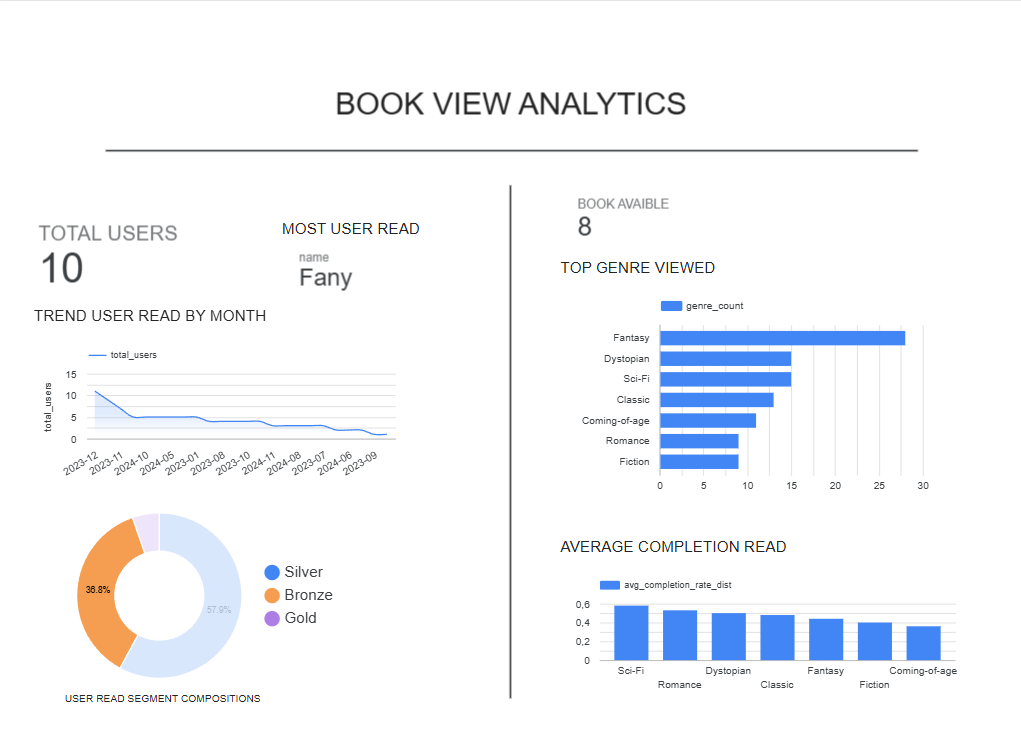

Layout of this report page (visuals, bound fields, positions):
{"tool":"powerbi","page":{"name":"Page 1","canvas":[1280,720],"ordinal":0},"visuals":[{"type":"clusteredBarChart","title":"Reading completion rates","fields":{"Category":["Query1.title"],"Y":["Query1.Completion Rate"]},"box":[403.3,411.7,500,308.3],"z":0},{"type":"textbox","box":[0,0,1280,65],"z":1000},{"type":"pieChart","title":"Reading progress by user segment","fields":{"Category":["Query2.segment"],"Y":["Sum(Query2.completion_rate)"]},"box":[903.3,411.7,376.7,308.3],"z":2000},{"type":"tableEx","title":"TOP-RATED BOOKS","fields":{"Values":["Query3.title","Query3.rating"]},"box":[0,411.7,403.3,308.3],"z":3000},{"type":"lineChart","title":"User activity over time","fields":{"Category":["Query1.date.Variation.Date Hierarchy.Month"],"Y":["Count(Query1.user_id)"]},"box":[656.7,113.3,623.3,298.3],"z":5000},{"type":"slicer","fields":{"Values":["Query1.genre"]},"box":[0,53.3,158.3,235],"z":6000},{"type":"slicer","fields":{"Values":["Query1.action"]},"box":[0,288.3,158.3,123.3],"z":7000},{"type":"barChart","title":"Book distribution by genre","fields":{"Category":["Query1.genre"],"Y":["Query1.Reader"]},"box":[158.3,53.3,498.3,358.3],"z":10500},{"type":"slicer","title":"Filter by Date","fields":{"Values":["Query1.date"]},"box":[656.7,5,623.3,108.3],"z":13000}]}

Visuals, with their boxes on the page's 1280x720 design canvas (x1, y1, x2, y2). These are canvas units, not pixel positions in the 1021x738 screenshot, which may show the page scaled, cropped or inside an application window:
"Reading completion rates" clusteredBarChart: box=[403, 412, 903, 720]
textbox: box=[0, 0, 1280, 65]
"Reading progress by user segment" pieChart: box=[903, 412, 1280, 720]
"TOP-RATED BOOKS" tableEx: box=[0, 412, 403, 720]
"User activity over time" lineChart: box=[657, 113, 1280, 412]
slicer - Query1.genre: box=[0, 53, 158, 288]
slicer - Query1.action: box=[0, 288, 158, 412]
"Book distribution by genre" barChart: box=[158, 53, 657, 412]
"Filter by Date" slicer: box=[657, 5, 1280, 113]
